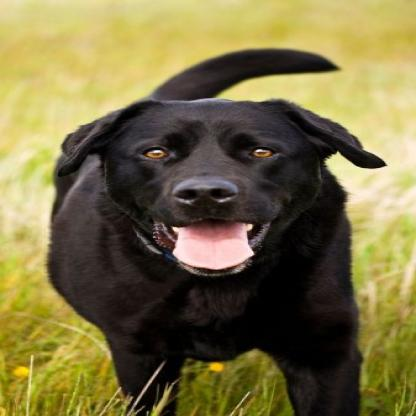Labarador Retriever: (17, 1, 416, 264)
